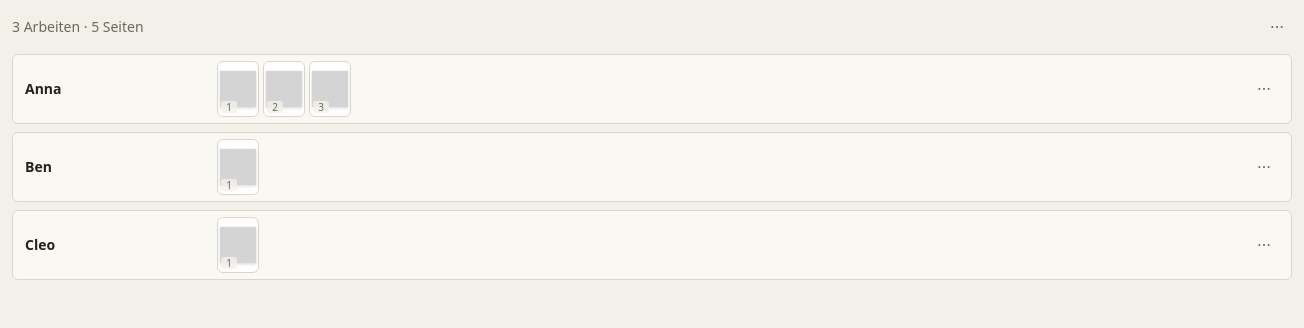
Test: list of Arbeiten › renames through the menu
The width and height of the screenshot is (1304, 328).
Click the button named "Weitere Aktionen für Ben" at (1264, 167), box [1249,152,1279,182]
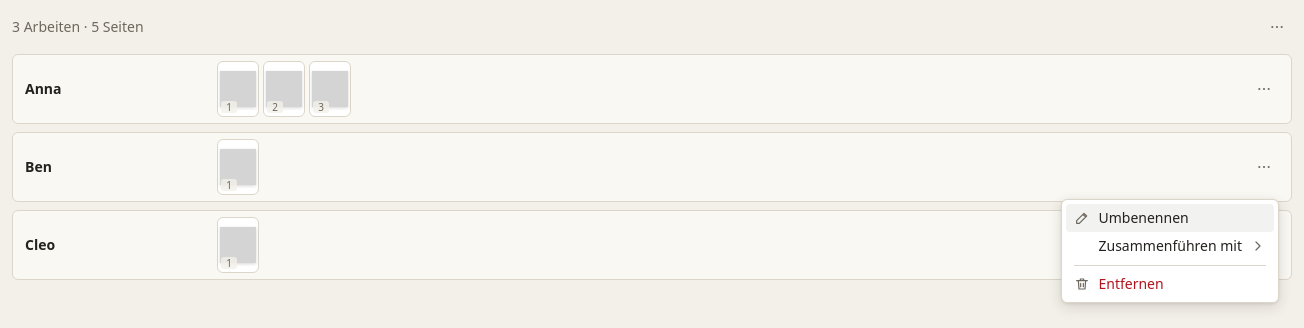
Click the menu item "Umbenennen" at (1170, 218), box [1066,204,1274,232]
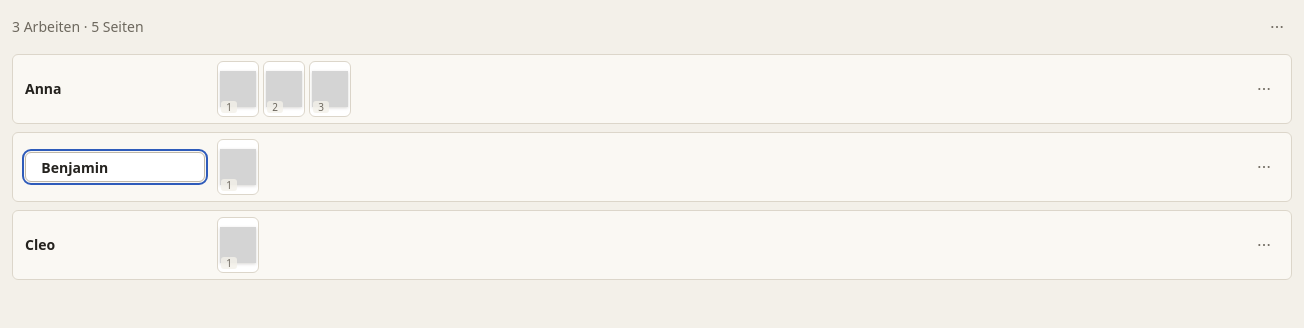
Press Enter in the field with class "arbeit-name-field", box [25,152,205,182]
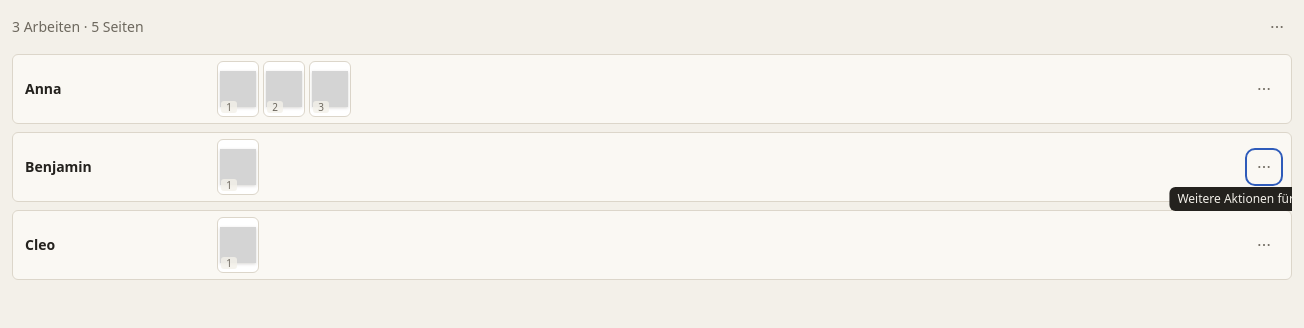
Check: the field with class "arbeit-name-field" is gone
